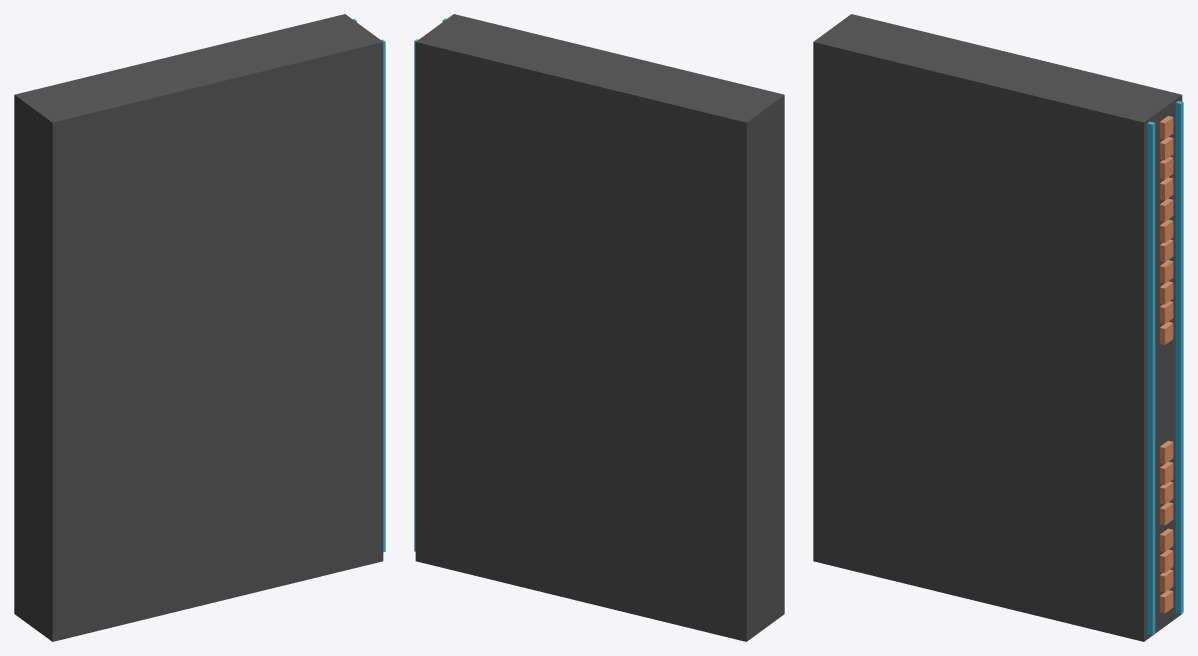
Rendered from AMAX-slice.glb.
The picture shows the model from 3 angles, left to right: view 1: azimuth 30°, elevation 25°; view 2: azimuth 150°, elevation 25°; view 3: azimuth 330°, elevation 25°; orthographic projection.
Parts seen in each view (by area): view 1: Cube, Cube.033; view 2: Cube, Cube.034; view 3: Cube, Cube.033, Cube.034.
Part boxes in pixels (x1,y1,x2,y2): Cube: (14,14,383,641); Cube.033: (381,39,385,552); Cube: (415,14,784,641); Cube.034: (414,39,418,551); Cube: (813,14,1182,641); Cube.033: (1147,121,1155,634); Cube.034: (1175,101,1183,613).
Size of the model in its own units: 2.03 by 3 by 0.4.
